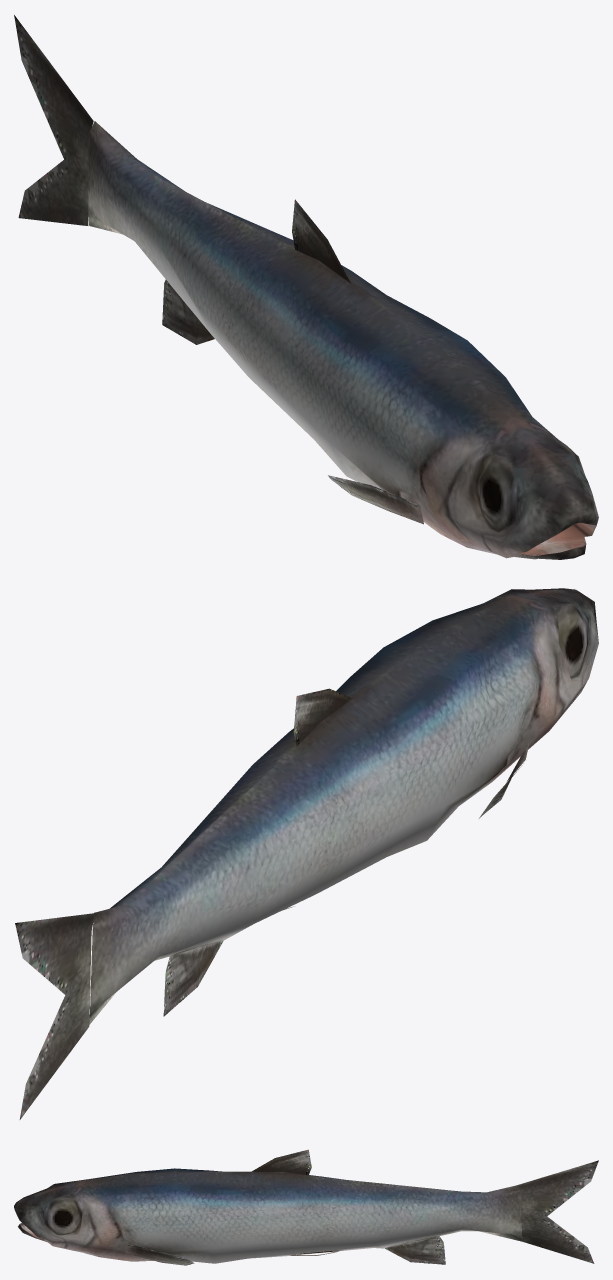
The model's file is anchovy.glb.
The picture shows the model from 3 angles, top to bottom: view 1: azimuth 30°, elevation 25°; view 2: azimuth 150°, elevation 25°; view 3: azimuth 270°, elevation 25°; orthographic projection. The views are drawn at different scales.
Parts seen in each view (by area): view 1: anchovy_LOD0; view 2: anchovy_LOD0; view 3: anchovy_LOD0.
Part boxes in pixels (x1,y1,x2,y2): anchovy_LOD0: [14, 15, 598, 559]; anchovy_LOD0: [15, 588, 598, 1119]; anchovy_LOD0: [14, 1149, 598, 1265].
Bounding box in the file's own units: 0.0425 × 0.0521 × 0.2397.
Materials: 1 (1 with a texture image).
